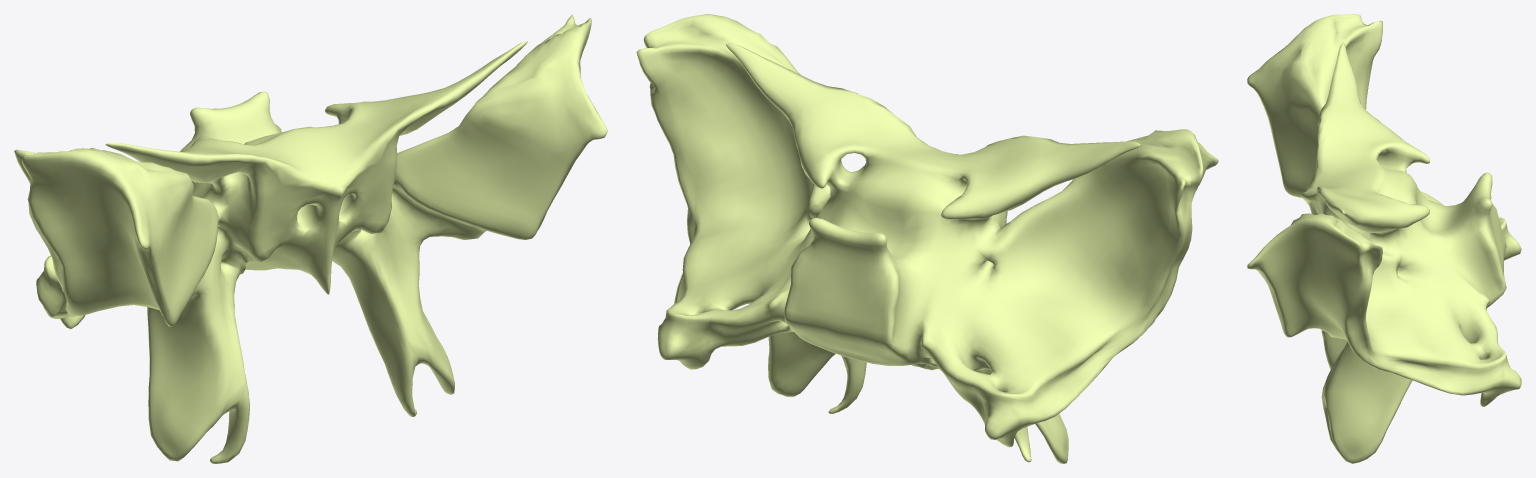
File: Esfenoides.glb
The picture shows the model from 3 angles, left to right: view 1: azimuth 30°, elevation 25°; view 2: azimuth 150°, elevation 25°; view 3: azimuth 270°, elevation 25°; orthographic projection. The views are drawn at different scales.
Visible parts, largest first — view 1: Esfenoides; view 2: Esfenoides; view 3: Esfenoides.
Boxes of the visible parts, x1,y1,x2,y2 form: Esfenoides: (14,14,607,463); Esfenoides: (636,14,1218,463); Esfenoides: (1247,14,1521,463).
Bounding box in the file's own units: 0.1092 × 0.0659 × 0.0552.
